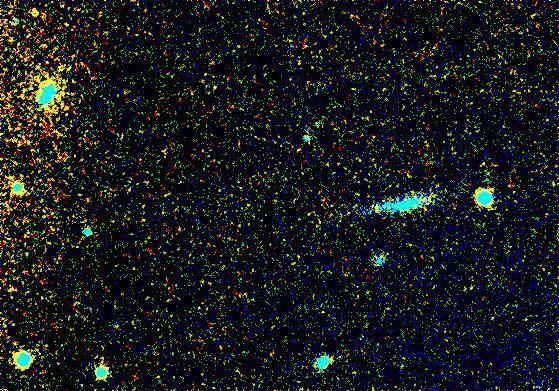star: (21, 0, 51, 29)
